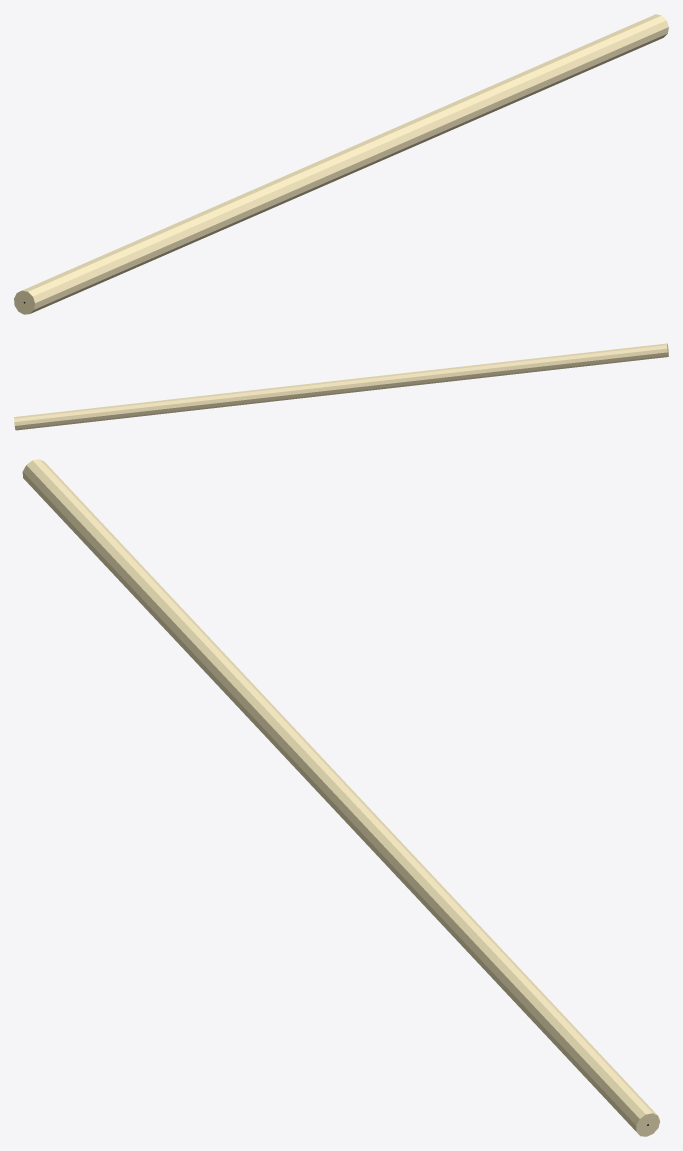
The model's file is tile_305.glb.
3 renders of one model, top to bottom at view 1: azimuth 30°, elevation 25°; view 2: azimuth 150°, elevation 25°; view 3: azimuth 270°, elevation 25°, orthographic. The views are drawn at different scales.
Bounding box in the file's own units: 10.61 × 1.91 × 5.8.
